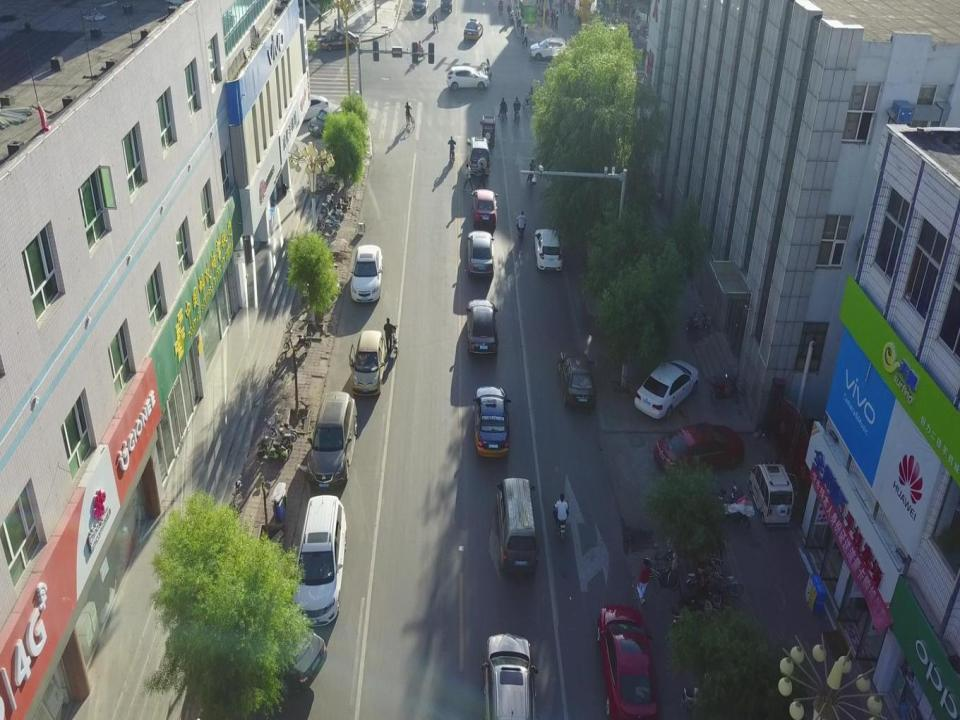car: (237, 598, 326, 685), (597, 604, 657, 720), (653, 420, 745, 478), (307, 392, 358, 490), (634, 359, 699, 419), (472, 385, 511, 458), (557, 348, 596, 410), (348, 330, 384, 396), (350, 244, 384, 303), (466, 298, 498, 357), (308, 106, 352, 140), (466, 231, 494, 278), (534, 229, 564, 272), (446, 65, 491, 91), (289, 96, 329, 124), (470, 189, 497, 229), (320, 28, 360, 52), (528, 40, 573, 61), (464, 18, 483, 40), (412, 0, 429, 14)
van: (292, 494, 346, 627), (480, 631, 538, 720), (496, 477, 538, 573), (466, 136, 490, 177), (440, 0, 452, 12)
